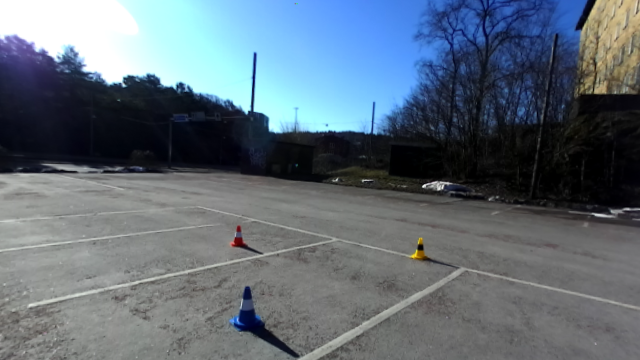blue: (229, 286, 262, 330)
orange: (231, 226, 246, 247)
yellow: (409, 238, 426, 259)
